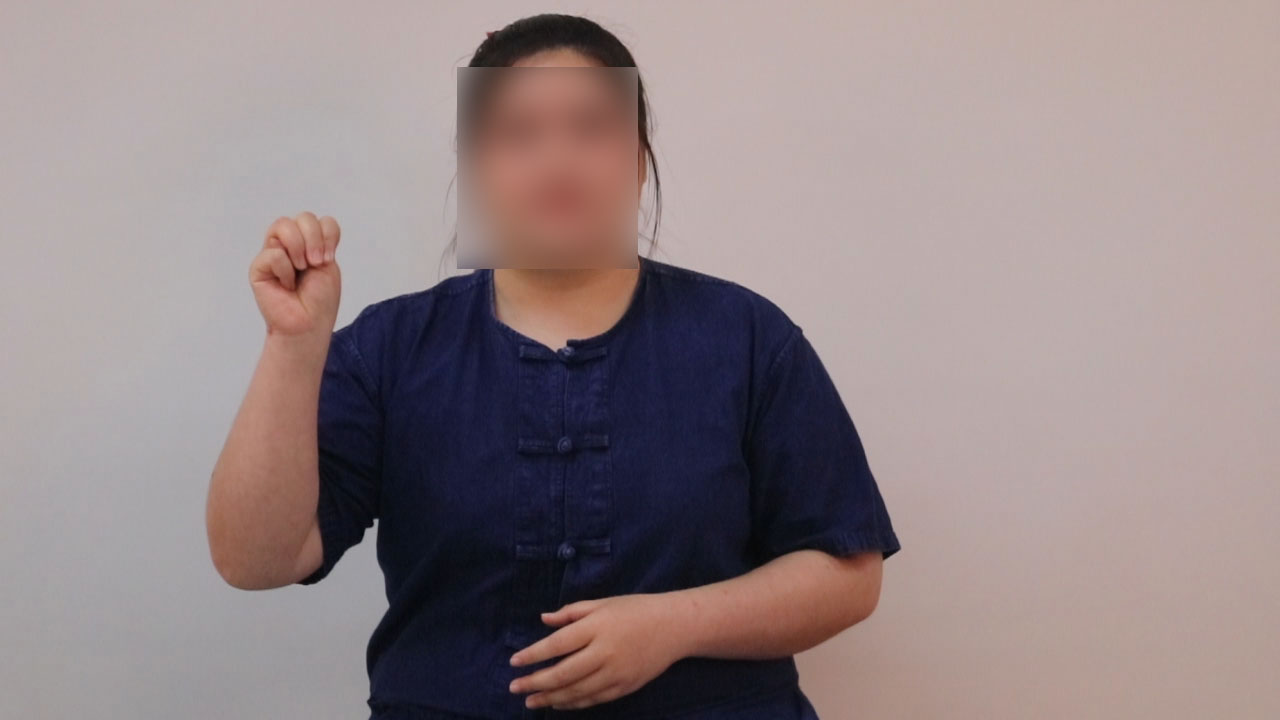mor: (243, 202, 350, 360)
